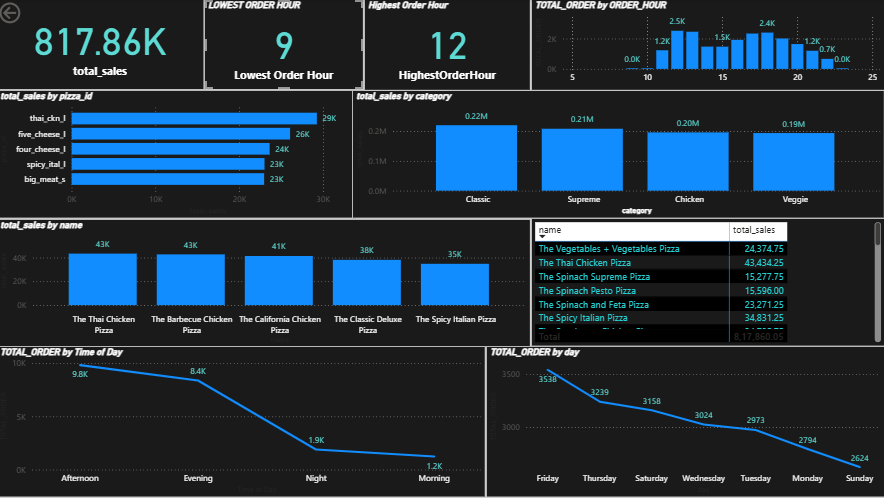

Layout of this report page (visuals, bound fields, positions):
{"tool":"powerbi","page":{"name":"Page 1","canvas":[1280,720],"ordinal":0},"visuals":[{"type":"card","title":"LOWEST ORDER HOUR","fields":{"Values":["Sum(ORDER DETAILS.LOW)"]},"box":[300,0,230,131.7],"z":0},{"type":"card","fields":{"Values":["ORDER DETAILS 2.total_sales"]},"box":[0,0,300,131.2],"z":1000},{"type":"clusteredBarChart","fields":{"Category":["ORDER DETAILS 2.pizza_id"],"Y":["ORDER DETAILS 2.total_sales"]},"box":[0,131.7,518.3,185],"z":2000},{"type":"pivotTable","fields":{"Rows":["PIZZA TYPE.name"],"Values":["ORDER DETAILS 2.total_sales"]},"box":[770,315,510,185],"z":3000},{"type":"columnChart","fields":{"Y":["ORDER DETAILS 2.total_sales"],"Category":["PIZZA TYPE.name"]},"box":[0,316.7,770,185],"z":4000},{"type":"actionButton","box":[0,0,100,40],"z":5000},{"type":"columnChart","fields":{"Category":["PIZZA TYPE.category"],"Y":["ORDER DETAILS 2.total_sales"]},"box":[513.3,131.7,766.7,185],"z":6000},{"type":"lineChart","fields":{"Category":["ORDER DETAILS.Time of Day"],"Y":["ORDER DETAILS.TOTAL_ORDER"]},"box":[0,500,705,218.3],"z":7000},{"type":"lineChart","fields":{"Category":["ORDER DETAILS.day"],"Y":["ORDER DETAILS.TOTAL_ORDER"]},"box":[705,500,575,218.3],"z":8000},{"type":"columnChart","fields":{"Category":["ORDER DETAILS.ORDER_HOUR"],"Y":["ORDER DETAILS.TOTAL_ORDER"]},"box":[770,0,510,131.7],"z":9000},{"type":"card","title":"Highest Order Hour","fields":{"Values":["ORDER DETAILS.HighestOrderHour"]},"box":[530,0,240,131.7],"z":10000}]}

Visuals, with their boxes in screenshot pixels (x1, y1, x2, y2), scaled from the page's 1280x720 canvas onto the 884x499 screenshot:
"LOWEST ORDER HOUR" card: region(207, 0, 366, 91)
card - ORDER DETAILS 2.total_sales: region(0, 0, 207, 91)
clusteredBarChart - ORDER DETAILS 2.pizza_id x ORDER DETAILS 2.total_sales: region(0, 91, 358, 219)
pivotTable - PIZZA TYPE.name x ORDER DETAILS 2.total_sales: region(532, 218, 883, 347)
columnChart - ORDER DETAILS 2.total_sales x PIZZA TYPE.name: region(0, 219, 532, 348)
actionButton: region(0, 0, 69, 28)
columnChart - PIZZA TYPE.category x ORDER DETAILS 2.total_sales: region(354, 91, 883, 219)
lineChart - ORDER DETAILS.Time of Day x ORDER DETAILS.TOTAL_ORDER: region(0, 347, 487, 498)
lineChart - ORDER DETAILS.day x ORDER DETAILS.TOTAL_ORDER: region(487, 347, 883, 498)
columnChart - ORDER DETAILS.ORDER_HOUR x ORDER DETAILS.TOTAL_ORDER: region(532, 0, 883, 91)
"Highest Order Hour" card: region(366, 0, 532, 91)
